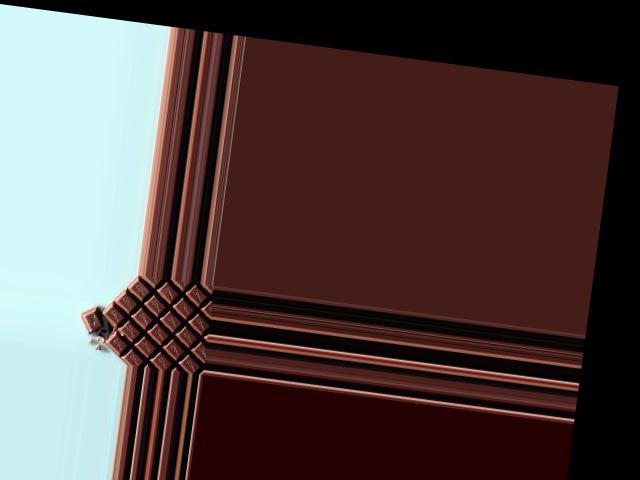chocolate: (88, 273, 215, 373)
